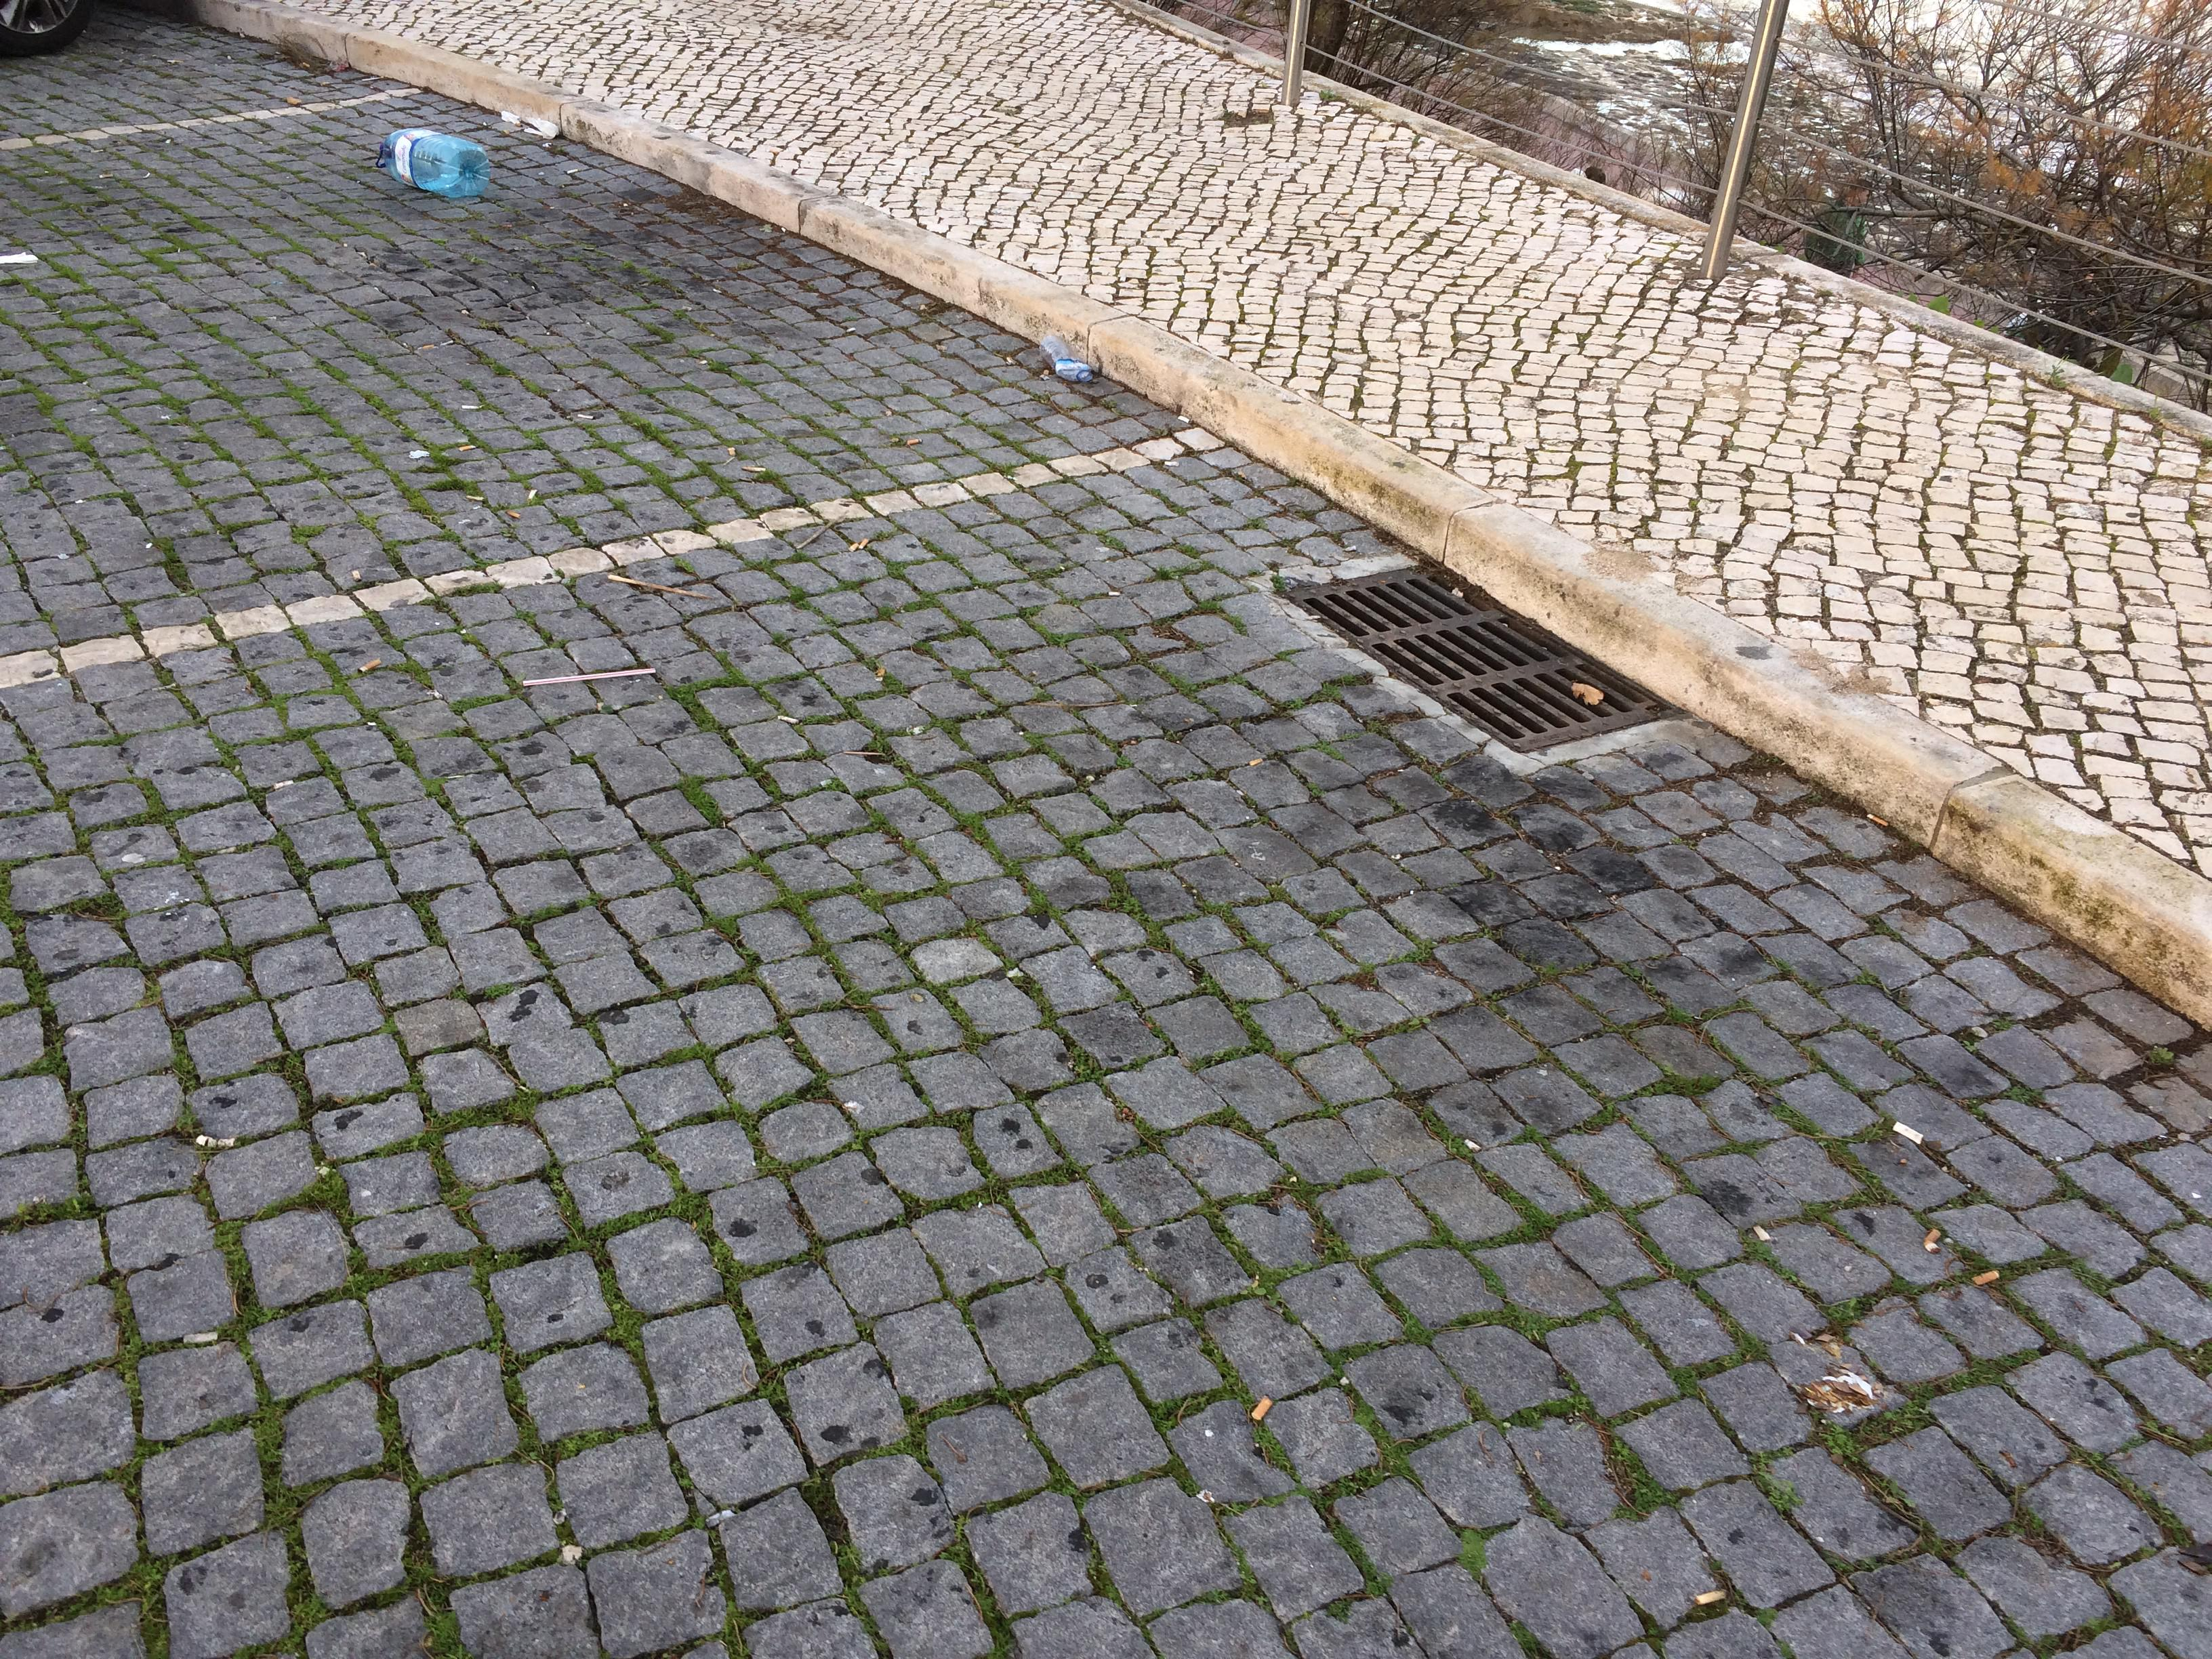Trash: (373, 122, 489, 204), (1040, 328, 1099, 394)
